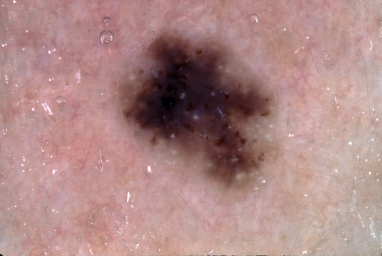seborrheic keratosis: (106, 25, 280, 191)
